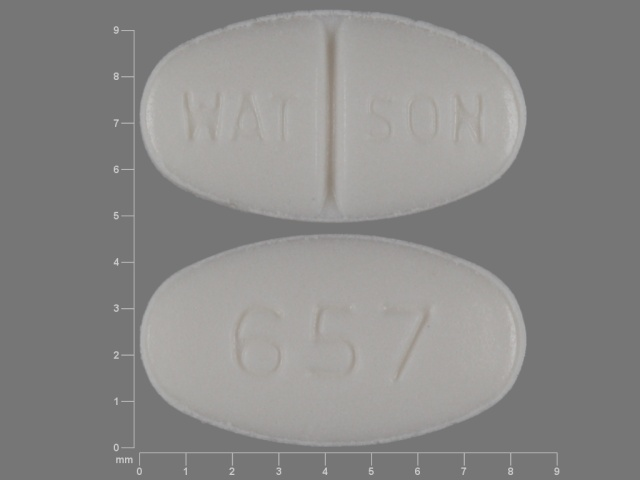5: (304, 301, 362, 384)
6: (231, 299, 287, 383)
7: (376, 301, 438, 385)
A: (231, 92, 269, 151)
I: (273, 96, 293, 153)
N: (450, 89, 487, 152)
O: (403, 91, 443, 149)
S: (359, 91, 402, 152)
W: (177, 86, 222, 147)
|: (299, 6, 354, 227)
